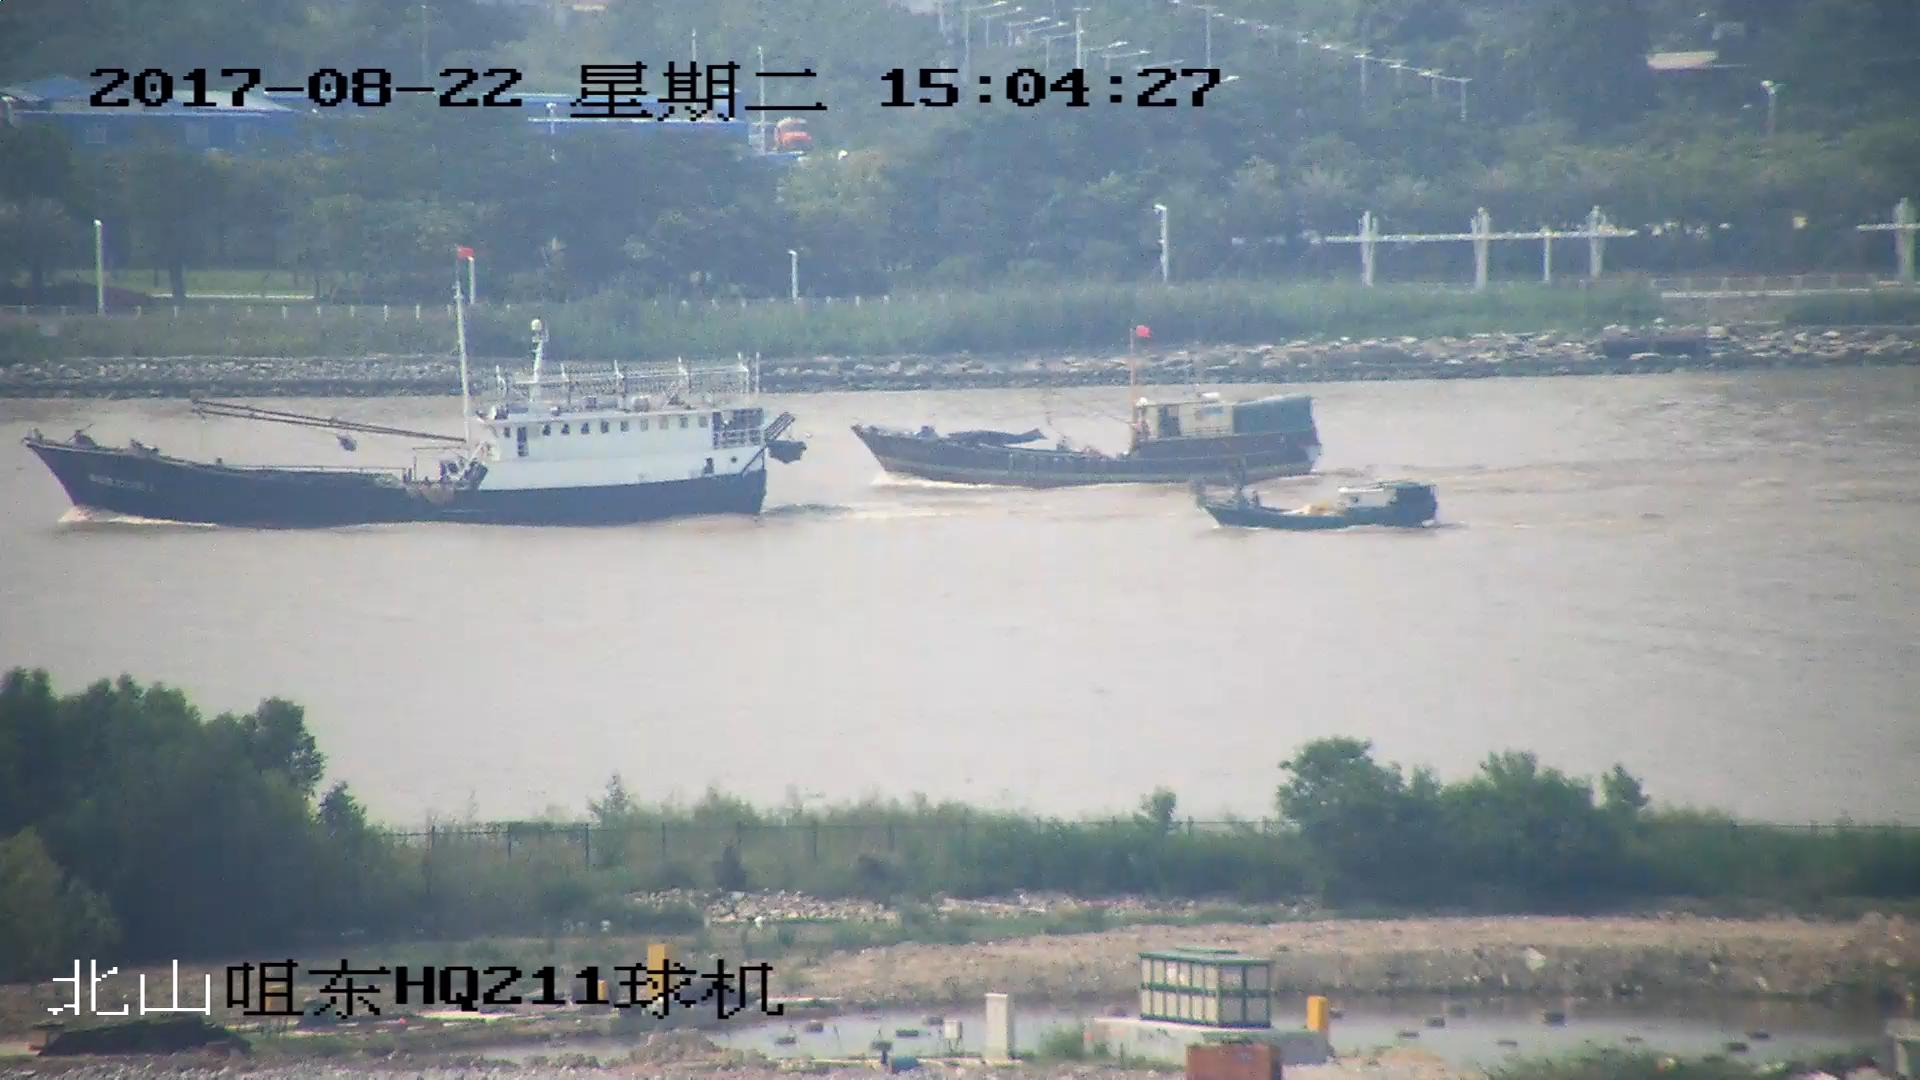fishing boat: (23, 244, 812, 525), (855, 327, 1321, 488), (1195, 469, 1438, 535)
